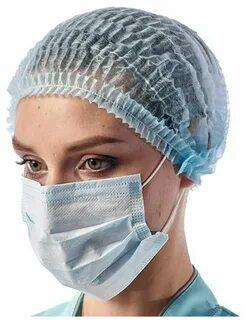hairnet: (7, 5, 241, 173)
mask: (23, 152, 185, 300)
